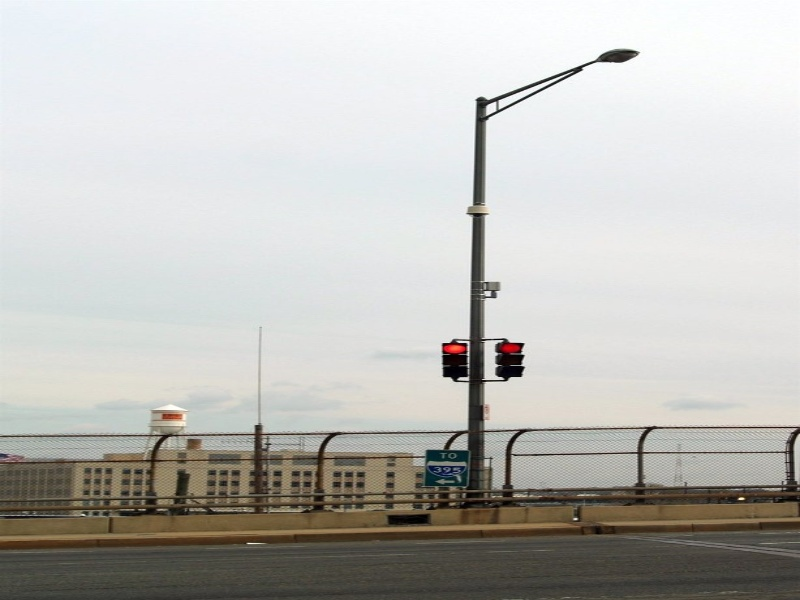red_light: (426, 327, 482, 385), (496, 334, 531, 382)
